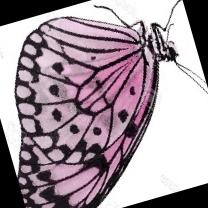butterfly: (13, 6, 177, 208)
